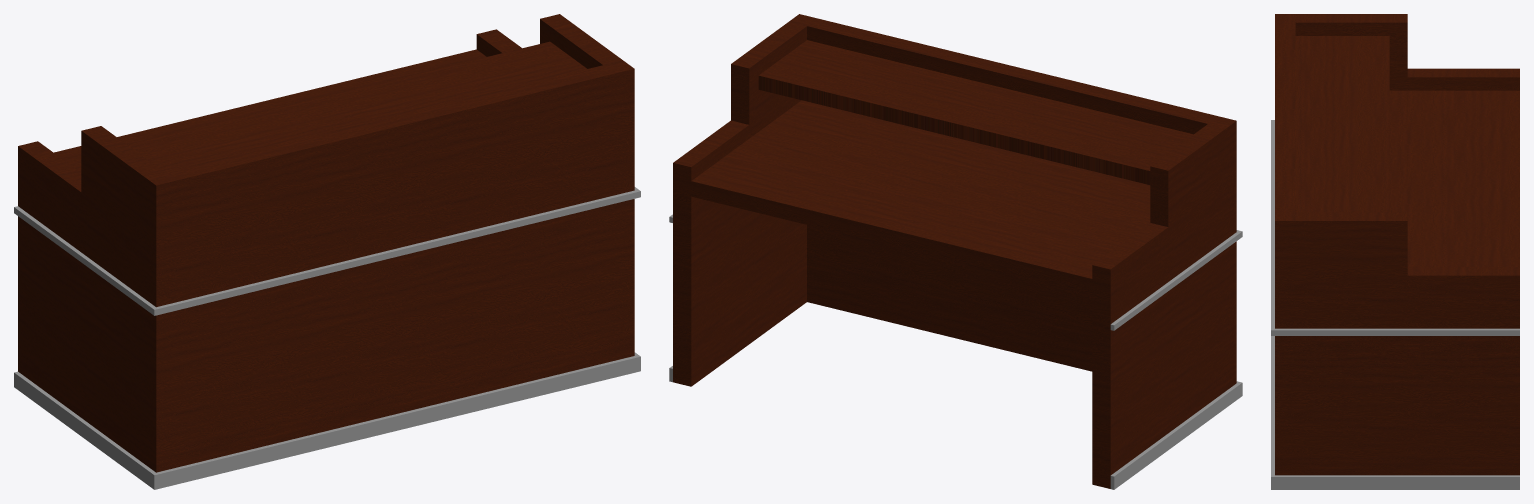
The model's file is MejaResepsionis.fbx.
3 views of the same model, side by side, from view 1: azimuth 30°, elevation 25°; view 2: azimuth 150°, elevation 25°; view 3: azimuth 270°, elevation 25° (orthographic). The views are drawn at different scales.
Parts seen in each view (by area): view 1: MejaResepsionis; view 2: MejaResepsionis; view 3: MejaResepsionis.
Boxes of the visible parts, x1,y1,x2,y2 form: MejaResepsionis: [14, 14, 640, 489]; MejaResepsionis: [669, 14, 1242, 489]; MejaResepsionis: [1271, 14, 1519, 489].
Bounding box in the file's own units: 165 × 97.87 × 82.53.
Materials: 2 (1 with a texture image).
